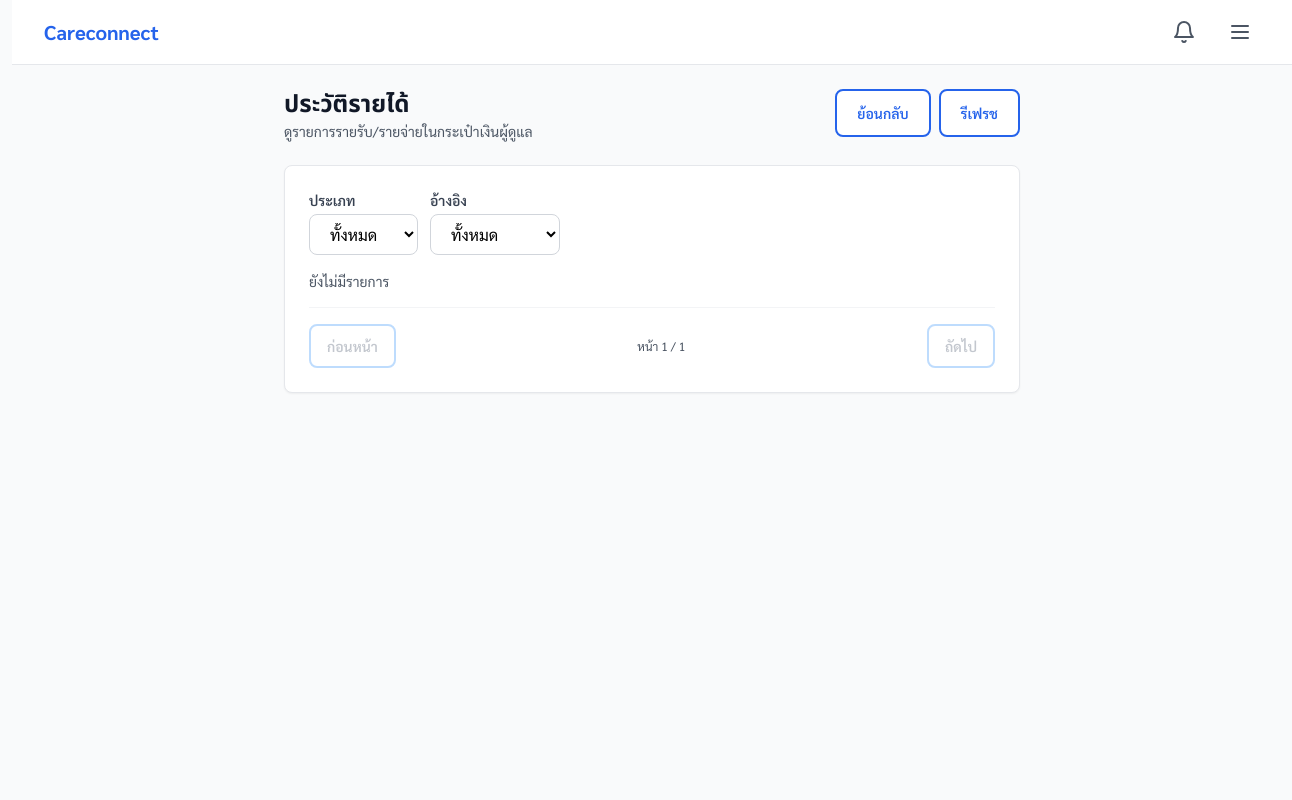
Test: Caregiver navigation flows › navigates from earnings history back to wallet
Step 1. Click the button "ย้อนกลับ" → (883, 113), box top-left (835, 89), bottom-right (930, 137)
(page scrolled)
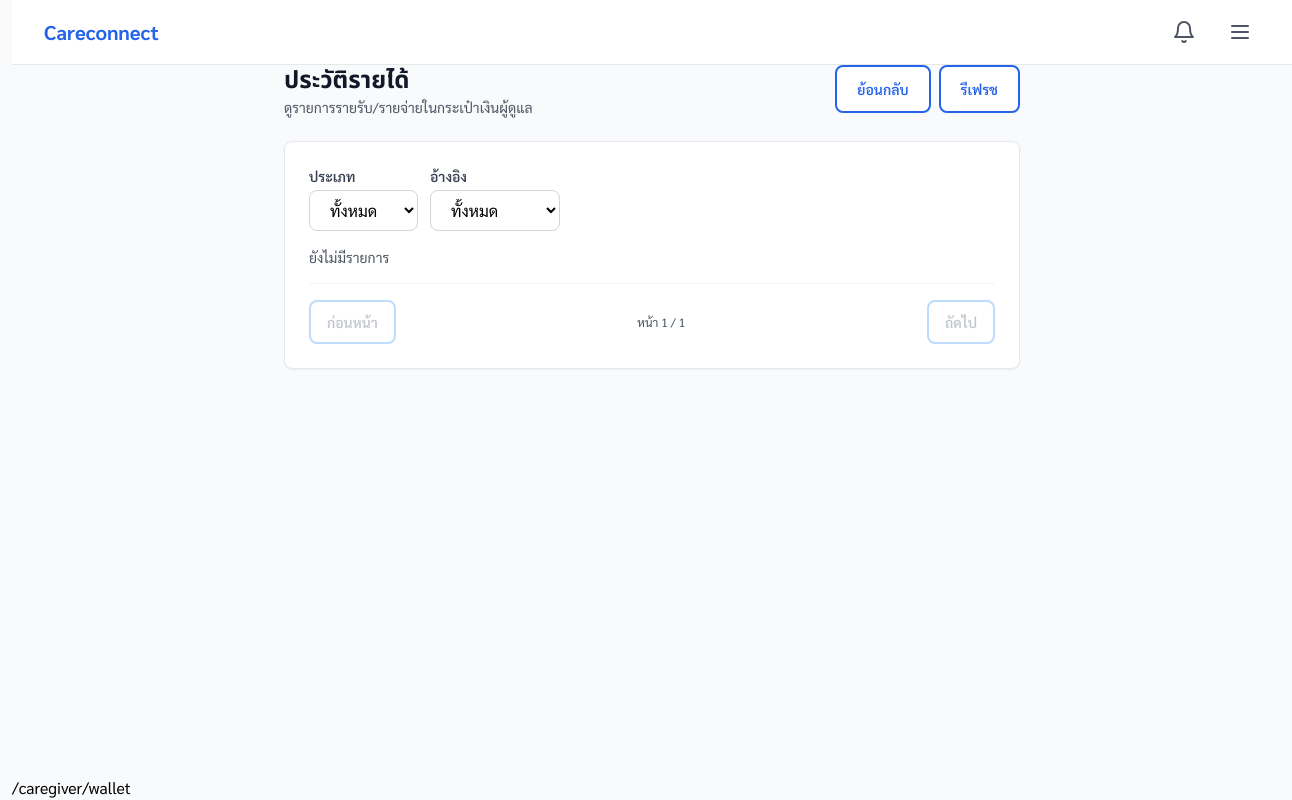
expect the text with test id "location" reads "/caregiver/wallet": met, box top-left (12, 777), bottom-right (131, 798)
